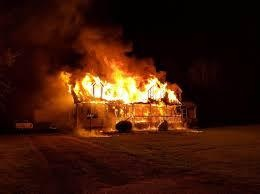fire: (61, 62, 183, 109)
